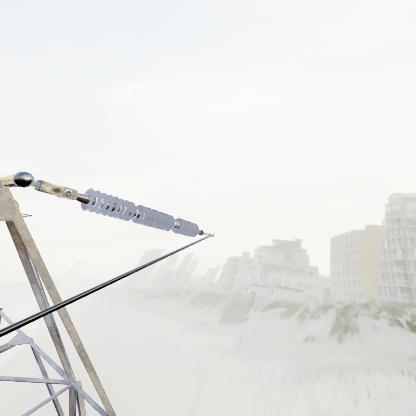insulator: (79, 186, 203, 236)
